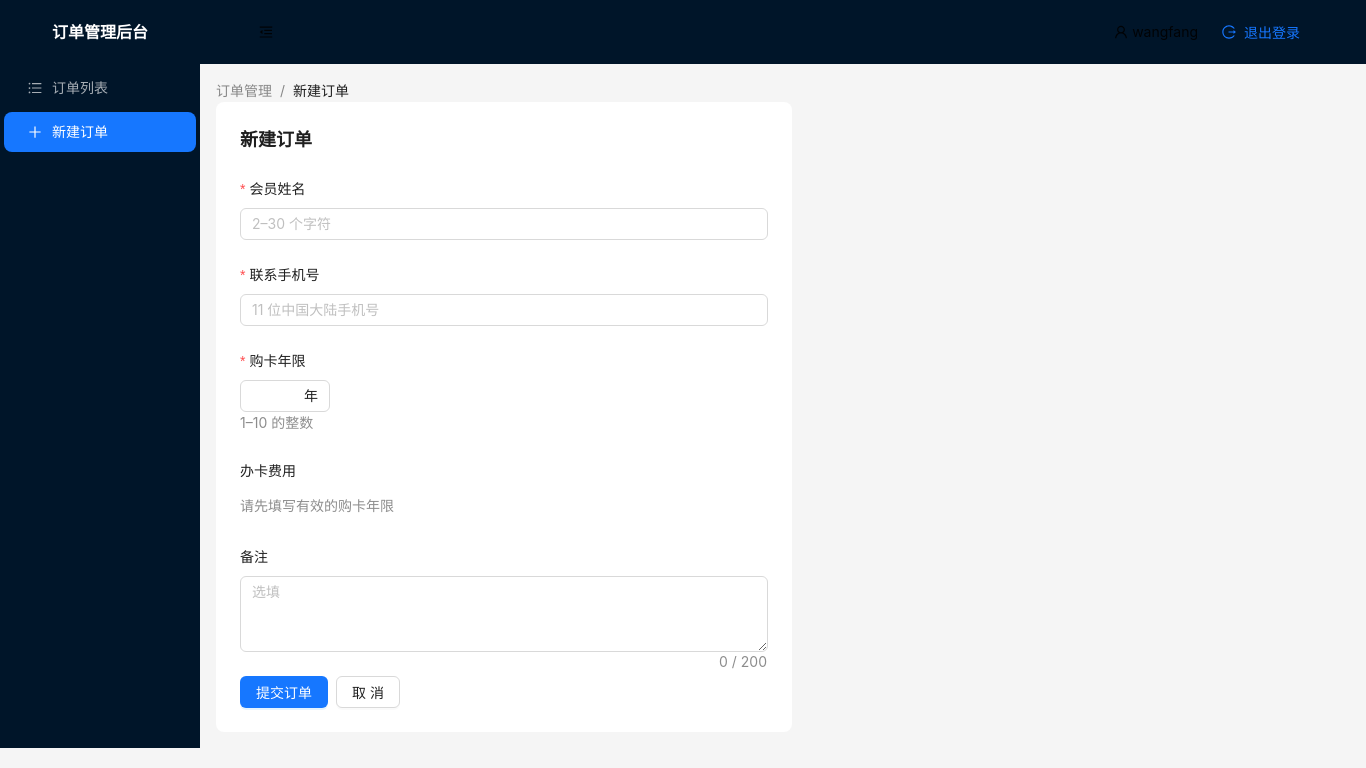
Scenario: 后台布局 › 退出登录清除 token 并回到登录页（不带回跳地址）
The image size is (1366, 768).
Click the button "退出登录".
click(1261, 32)  # box x1=1206 y1=16 x2=1316 y2=48
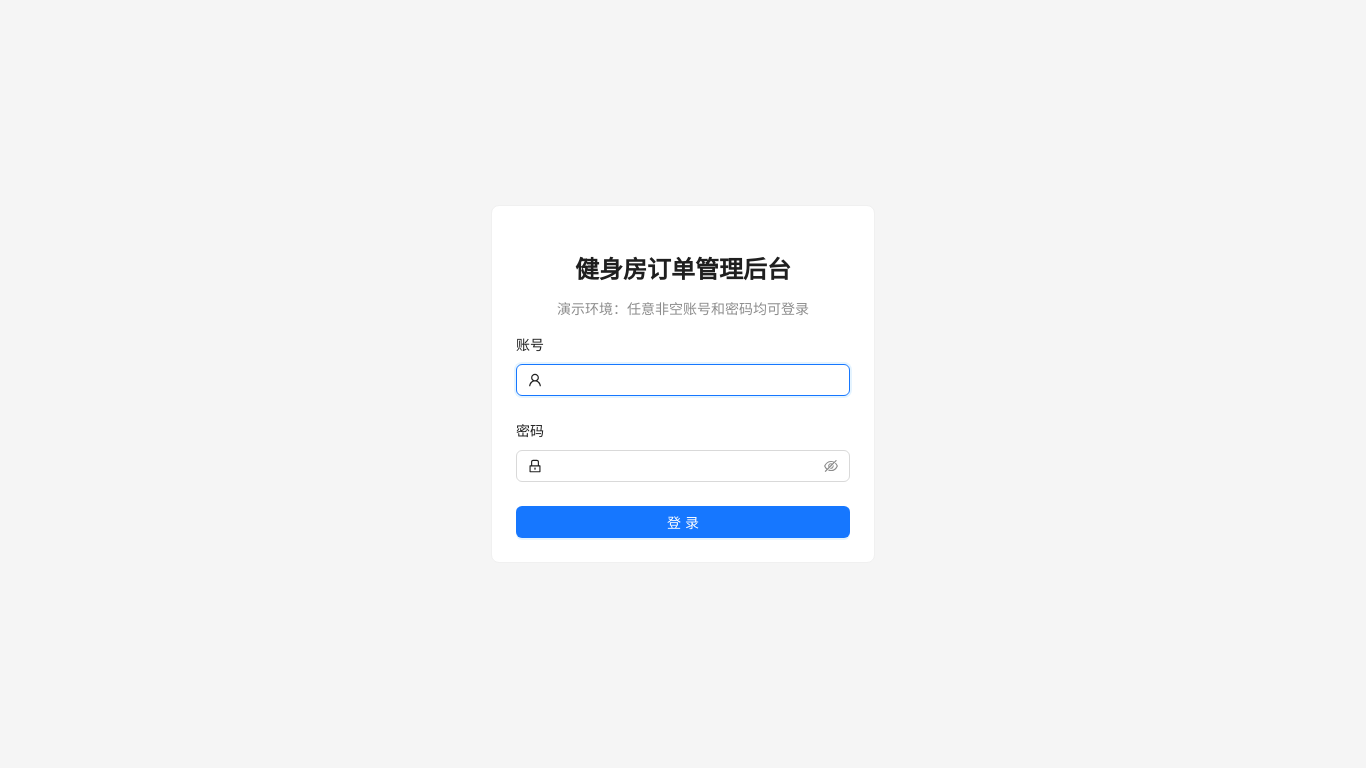
Result: the text "wangfang" is gone
